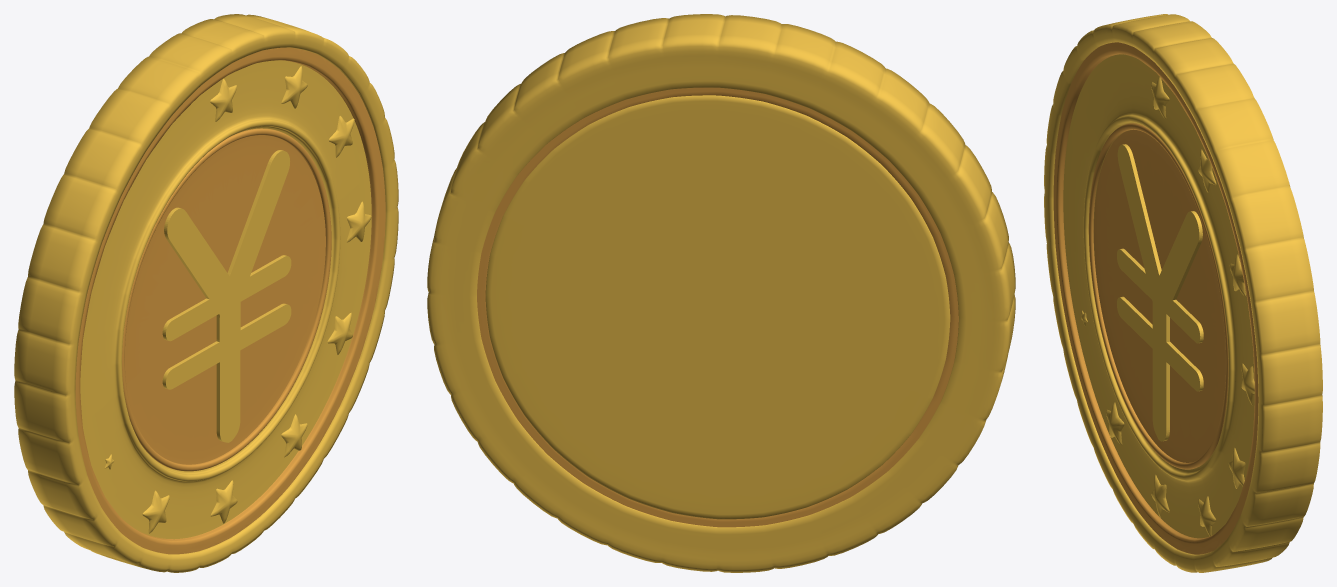
File: yen-coin-symbol-3d-animated-icon-891036022208.glb
3 renders of one model, left to right at view 1: azimuth 30°, elevation 25°; view 2: azimuth 150°, elevation 25°; view 3: azimuth 270°, elevation 25°, orthographic. The views are drawn at different scales.
Parts seen in each view (by area): view 1: Cylinder.001, Cylinder.007, Curve, Star.007, Star, Star.006, Star.001, Star.004, Star.005, Star.002, Star.003; view 2: Cylinder.001, Cylinder.007; view 3: Cylinder.001, Cylinder.007, Curve, Star.007, Star, Star.006, Star.005, Star.001, Star.004, Star.003, Star.002.
Boxes of the visible parts, x1,y1,x2,y2 form: Cylinder.001: (14,14,398,572); Cylinder.007: (75,47,385,554); Curve: (162,150,291,442); Star.007: (142,490,169,533); Star: (210,78,237,121); Star.006: (210,480,237,523); Star.001: (281,66,307,108); Star.004: (327,312,352,354); Star.005: (281,414,307,457); Star.002: (328,116,354,157); Star.003: (346,201,371,242); Cylinder.001: (427,14,1015,572); Cylinder.007: (477,87,958,527); Cylinder.001: (1044,14,1322,572); Cylinder.007: (1053,42,1258,554); Curve: (1117,144,1203,441); Star.007: (1106,402,1124,445); Star: (1151,77,1169,119); Star.006: (1151,474,1169,517); Star.005: (1198,496,1216,536); Star.001: (1198,149,1216,192); Star.004: (1229,447,1245,488); Star.003: (1241,363,1254,405); Star.002: (1229,254,1245,296).
Size of what is drawn, in the model's own units: 2.13 by 2.22 by 1.11.
